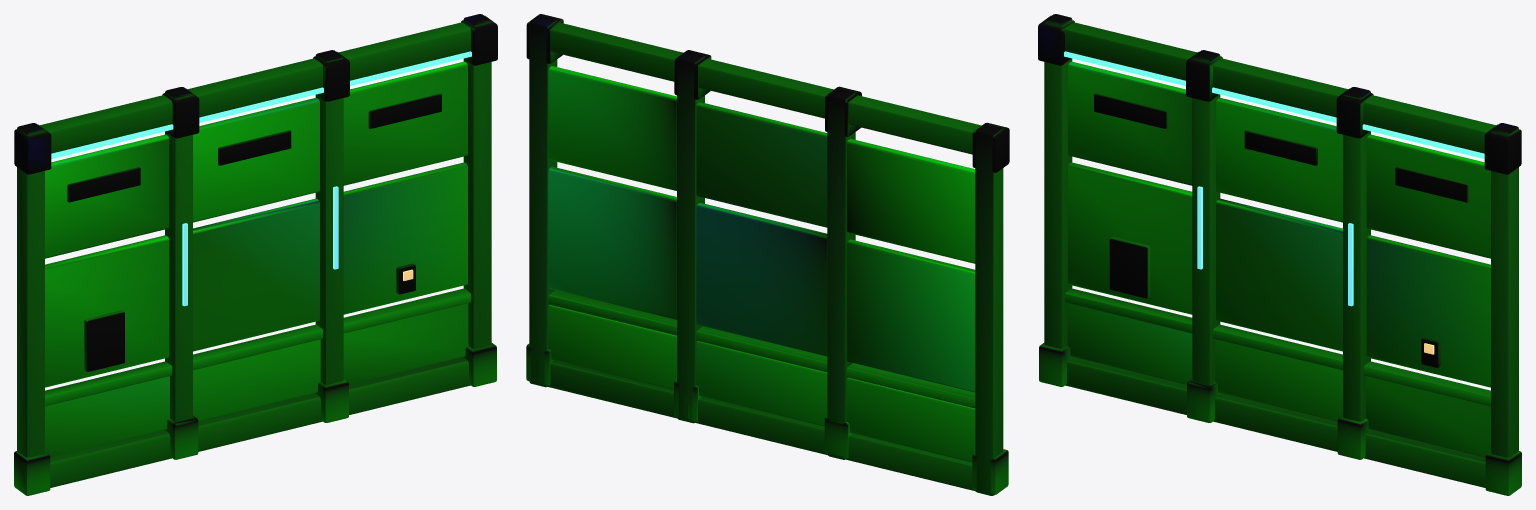
The model's file is hero_wall_bulkhead.glb.
3 views of the same model, side by side, from view 1: azimuth 30°, elevation 25°; view 2: azimuth 150°, elevation 25°; view 3: azimuth 330°, elevation 25° (orthographic).
Parts seen in each view (by area): view 1: HeroWallBulkhead; view 2: HeroWallBulkhead; view 3: HeroWallBulkhead.
Part boxes in pixels (x1=…): HeroWallBulkhead: x1=14, y1=14, x2=497, y2=495; HeroWallBulkhead: x1=526, y1=14, x2=1009, y2=495; HeroWallBulkhead: x1=1038, y1=14, x2=1521, y2=495.
Bounding box in the file's own units: 8.76 × 6.45 × 0.47.
